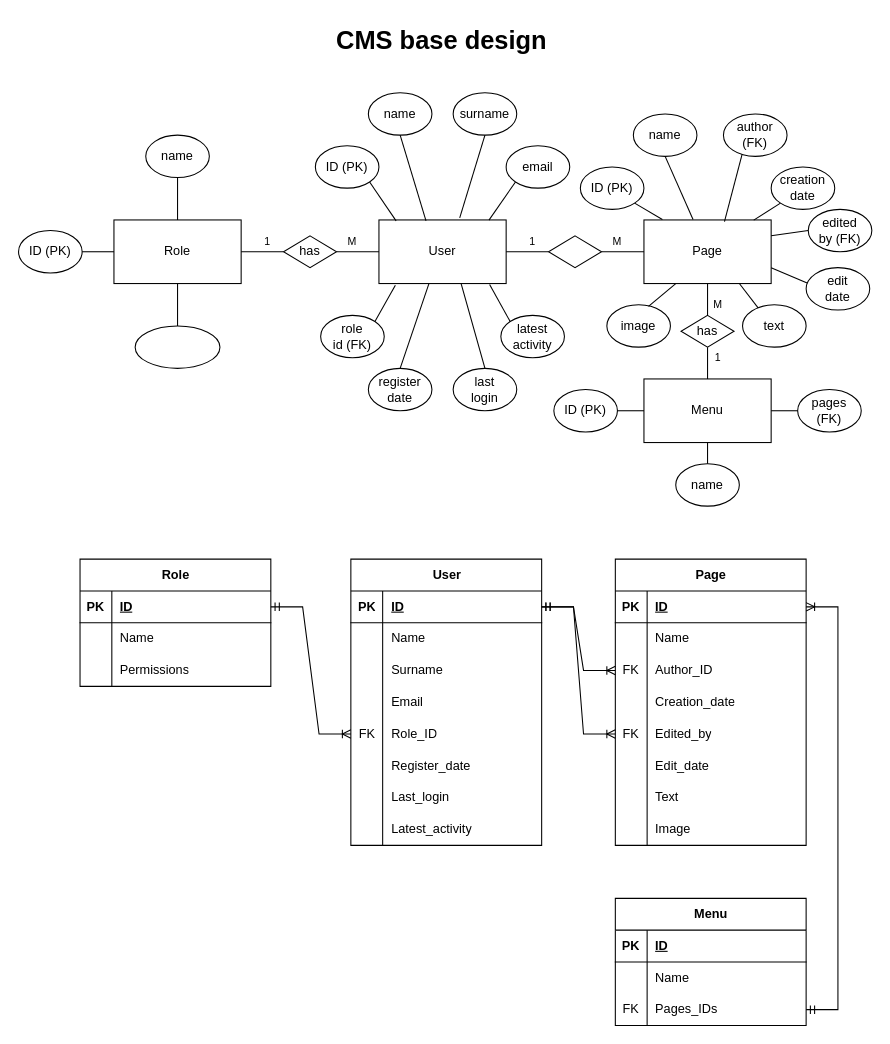
Image size: 890x1044. Some labels were removed from this diagram. The shapes that lost their labels are listed below. From the top down, each one's centre as x and y in pixels, then its label:
At [574,251]: "edits".
At [177,346]: "permisions".
